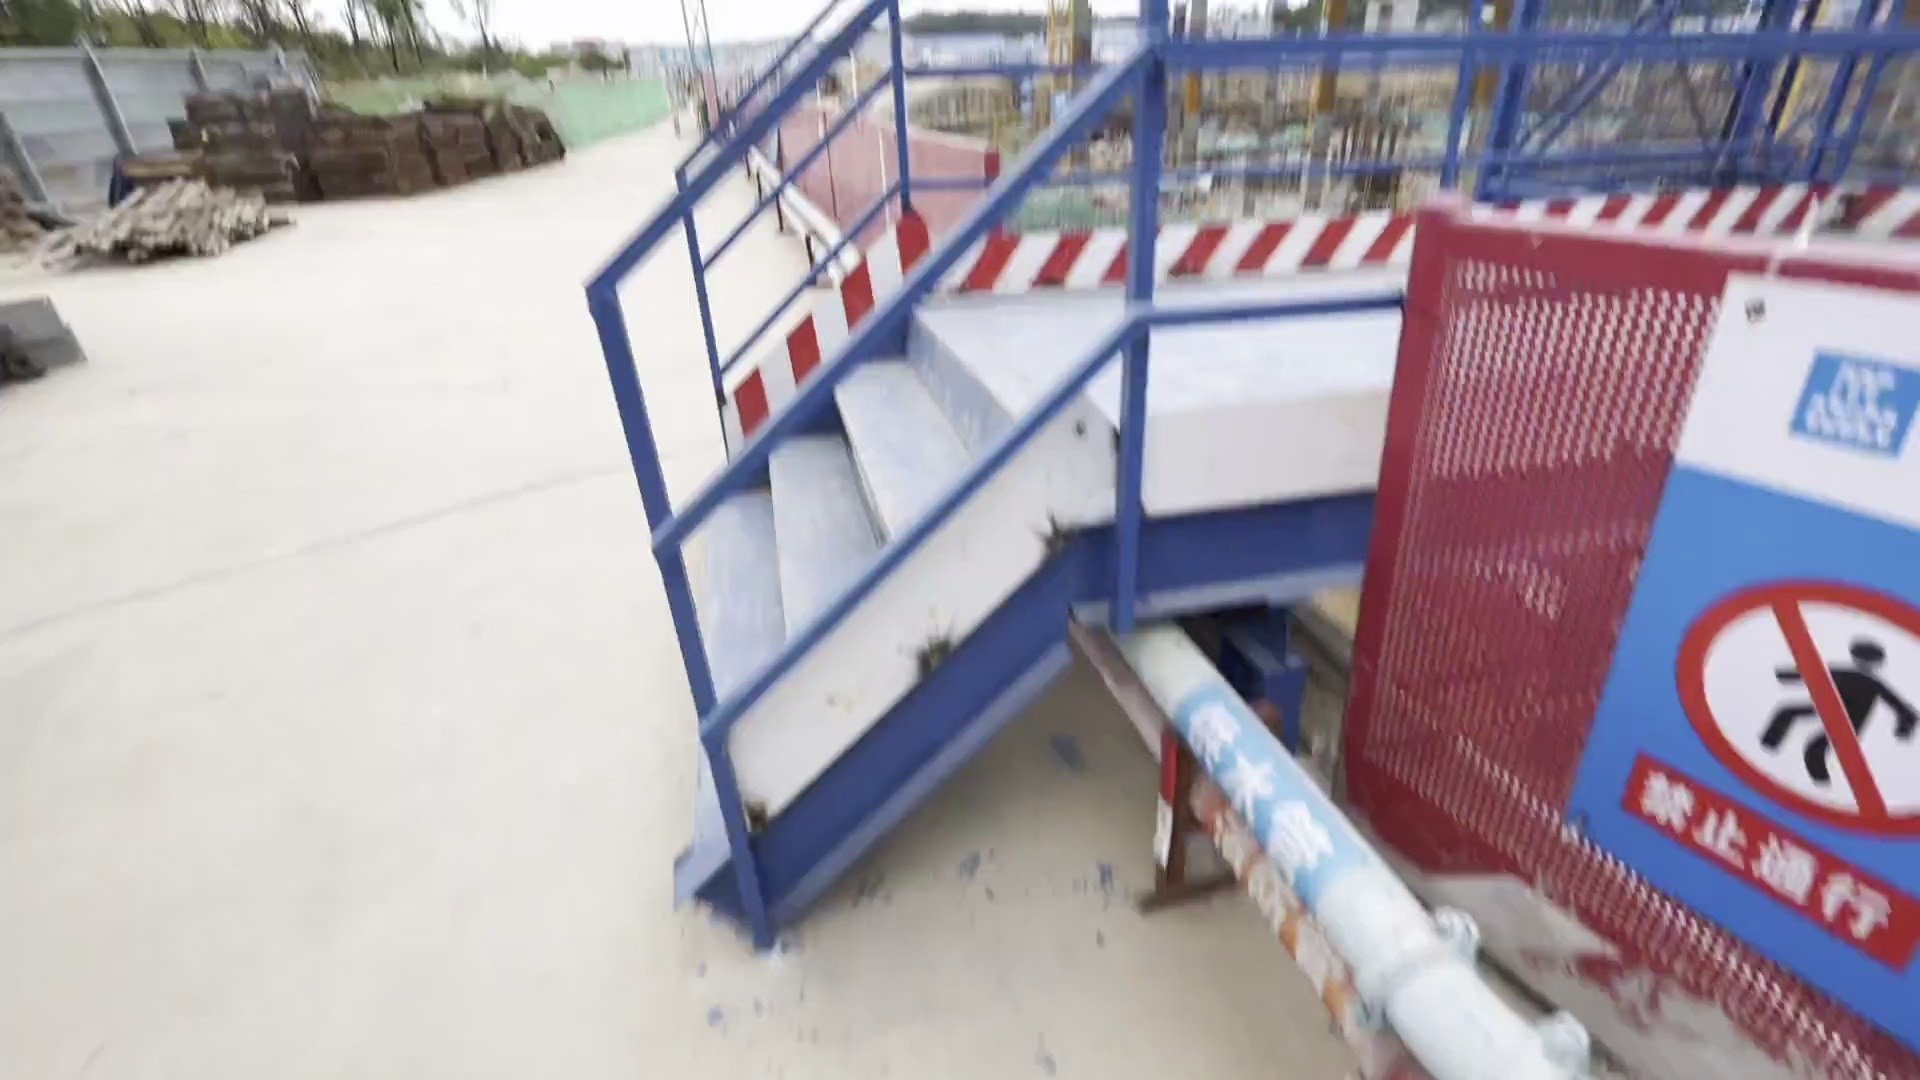fence: (666, 45, 1652, 899)
slogan: (1601, 245, 1920, 989)
wood: (32, 165, 293, 274)
